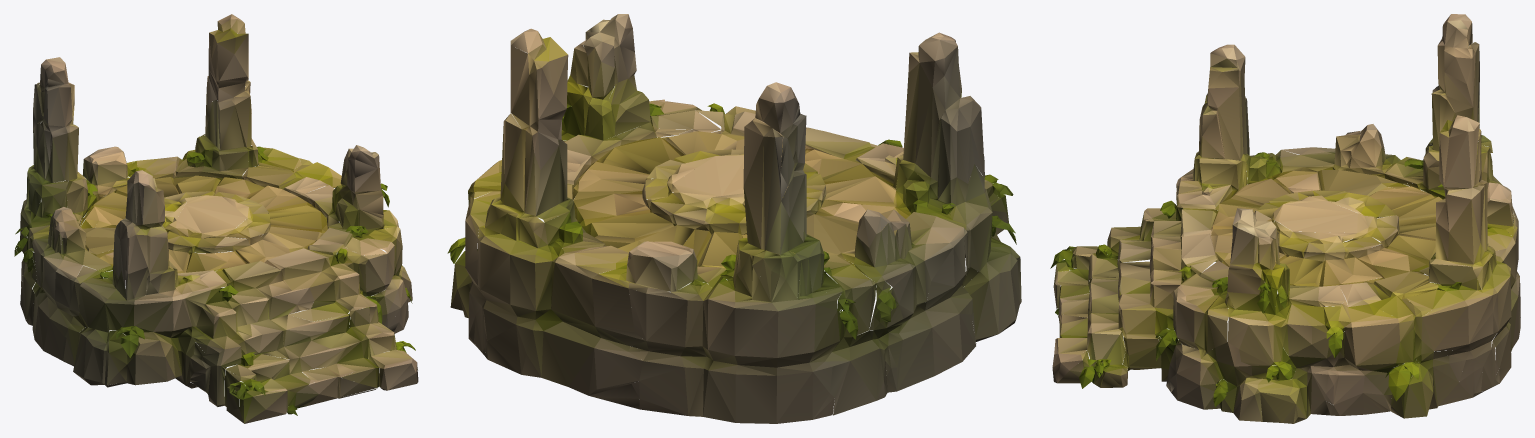
Rendered from building-oldFoundation.glb.
3 renders of one model, left to right at view 1: azimuth 30°, elevation 25°; view 2: azimuth 150°, elevation 25°; view 3: azimuth 270°, elevation 25°, orthographic. The views are drawn at different scales.
Visible parts, largest first — view 1: 0_oldFoundation; view 2: 0_oldFoundation; view 3: 0_oldFoundation.
Boxes of the visible parts, x1,y1,x2,y2 form: 0_oldFoundation: (14, 14, 418, 423); 0_oldFoundation: (447, 14, 1021, 423); 0_oldFoundation: (1050, 14, 1520, 423).
Bounding box in the file's own units: 1.85 × 1.25 × 1.98.
